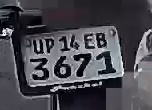1: (97, 48, 115, 74), (58, 34, 70, 54)
3: (29, 57, 51, 81)
4: (69, 30, 80, 51)
6: (54, 56, 74, 78)
7: (72, 52, 96, 80)
B: (94, 31, 109, 47)
E: (81, 30, 94, 51)
P: (44, 38, 55, 54)
U: (33, 38, 46, 56)
